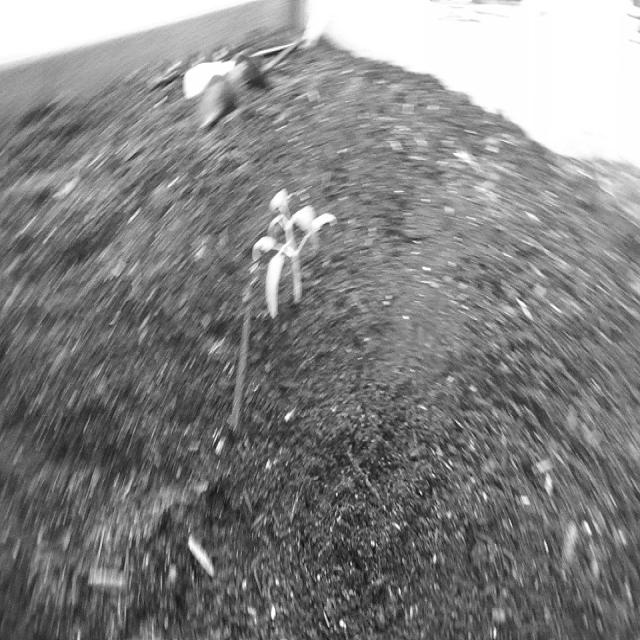Healthy: (246, 162, 345, 340)
